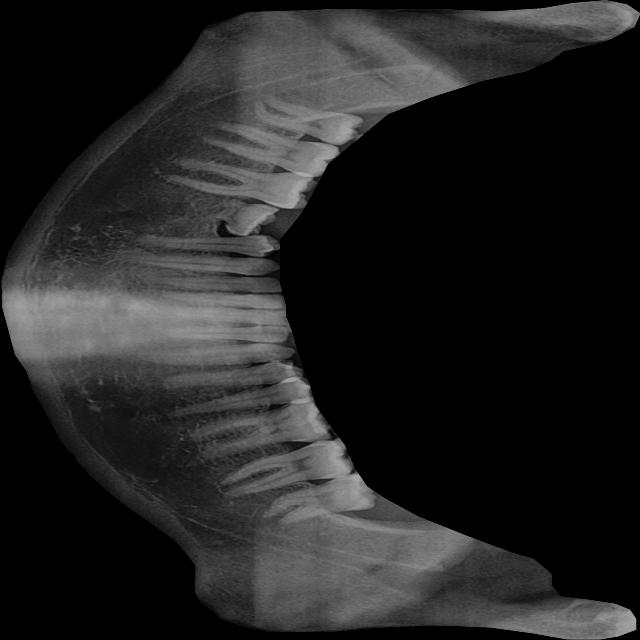mandibula: (0, 0, 640, 640)
